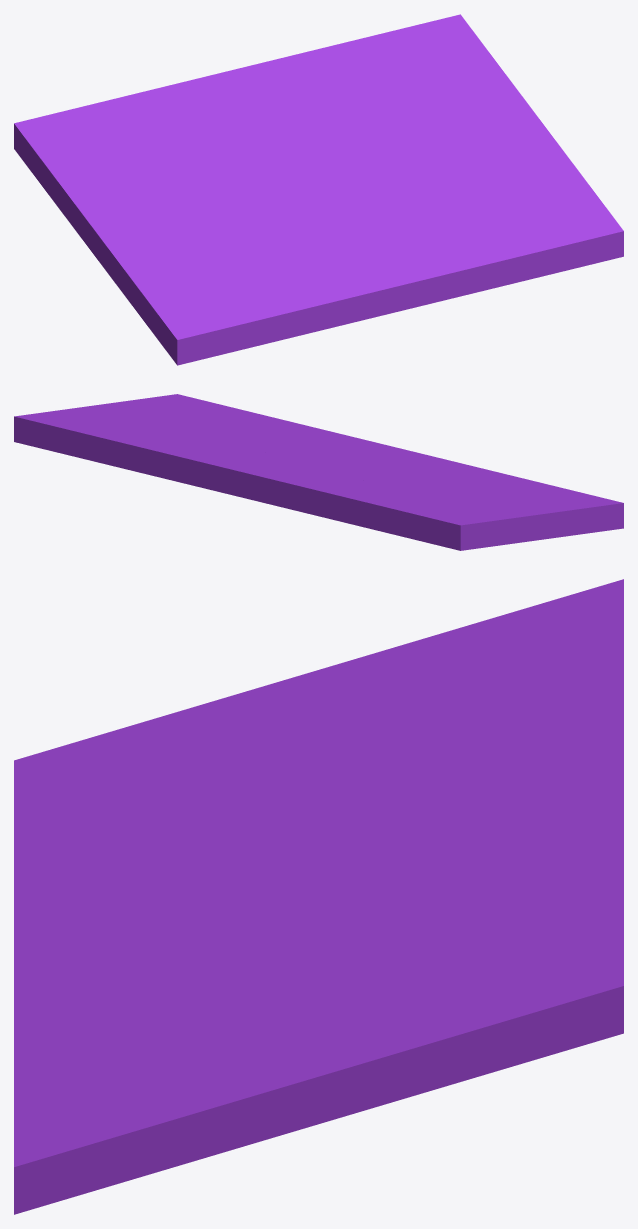
The model's file is Window_149_chunks.fbx.
3 renders of one model, top to bottom at view 1: azimuth 30°, elevation 25°; view 2: azimuth 150°, elevation 25°; view 3: azimuth 270°, elevation 25°, orthographic. The views are drawn at different scales.
Visible parts, largest first — view 1: Window_149_2, Window_149_0, Window_149_4, Window_149_1, Window_149_5, Window_149_3, Window_149_6; view 2: Window_149_0, Window_149_2, Window_149_4, Window_149_3, Window_149_5, Window_149_1, Window_149_6; view 3: Window_149_2, Window_149_0, Window_149_4, Window_149_5, Window_149_1, Window_149_3, Window_149_6.
Boxes of the visible parts, x1,y1,x2,y2 form: Window_149_2: (321,14,623,301); Window_149_0: (21,133,346,362); Window_149_4: (171,17,446,120); Window_149_1: (171,215,438,365); Window_149_5: (218,85,391,173); Window_149_3: (14,100,218,167); Window_149_6: (109,85,240,148); Window_149_0: (313,456,623,548); Window_149_2: (14,394,383,458); Window_149_4: (25,419,324,517); Window_149_3: (322,480,474,550); Window_149_5: (153,437,364,481); Window_149_1: (349,444,623,529); Window_149_6: (301,474,365,508); Window_149_2: (14,875,623,1214); Window_149_0: (14,587,596,903); Window_149_4: (495,722,623,973); Window_149_5: (327,775,497,930); Window_149_1: (14,858,211,978); Window_149_3: (419,579,623,776); Window_149_6: (445,666,623,792).
Size of the model in its own units: 1838 by 482 by 1165.
